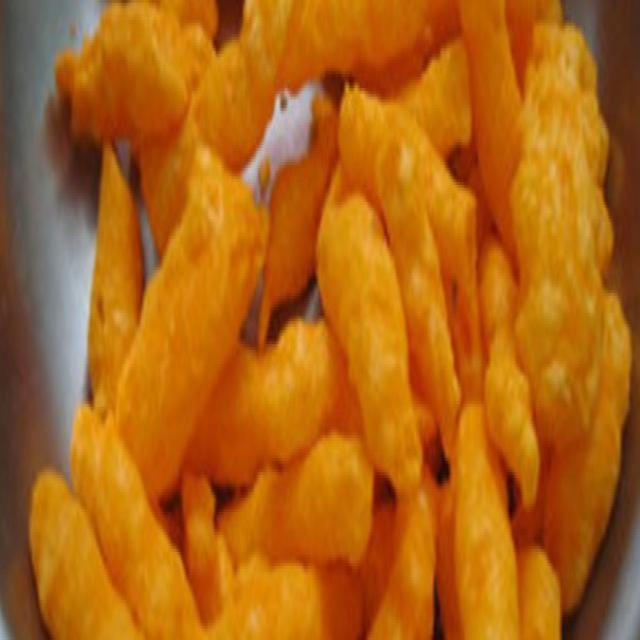Chips packaged: (36, 9, 616, 637)
